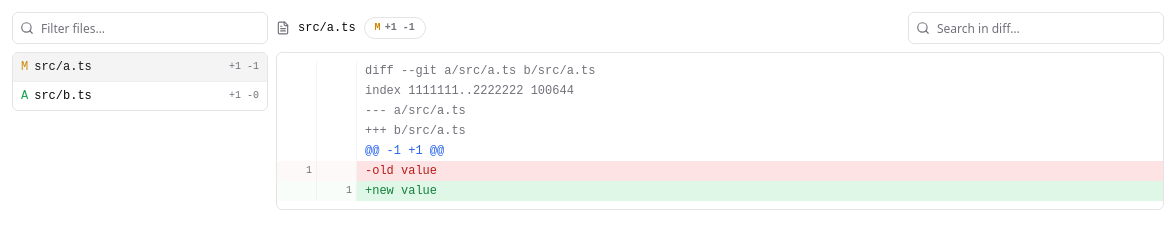
Test case: DiffView › navigates to the next match and switches file
In the field labelled "Search in diff…": (1036, 28) [908,12,1164,44], type "added"
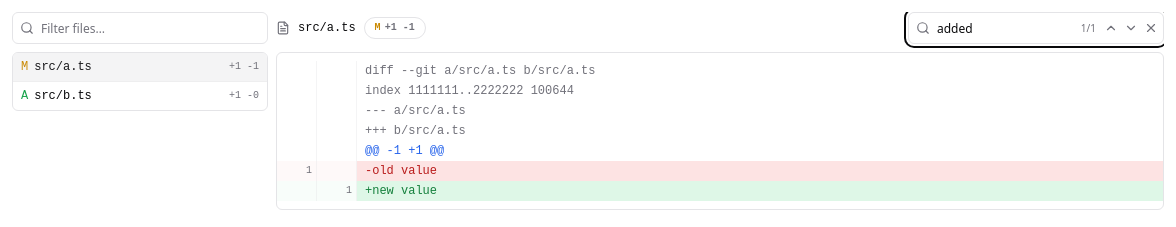
// Only src/b.ts contains "added", so navigating selects it.
Click the button named "Next match": click(1131, 28) [1122,19,1140,37]
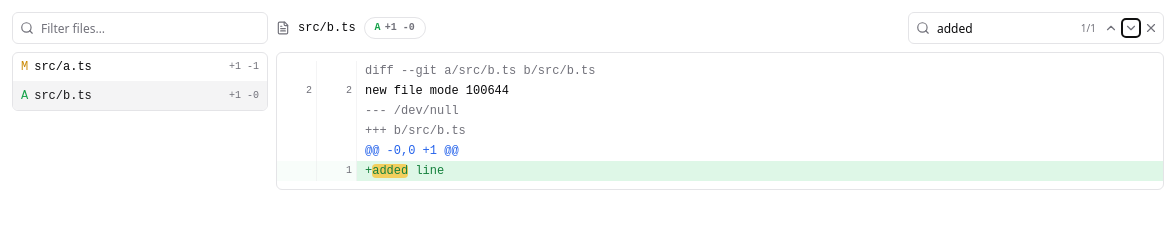
Expected: the text titled "src/b.ts" in the row of "1/1" is shown, [298,20,356,36]
Expected: the text "added" is shown, [372,164,408,178]
